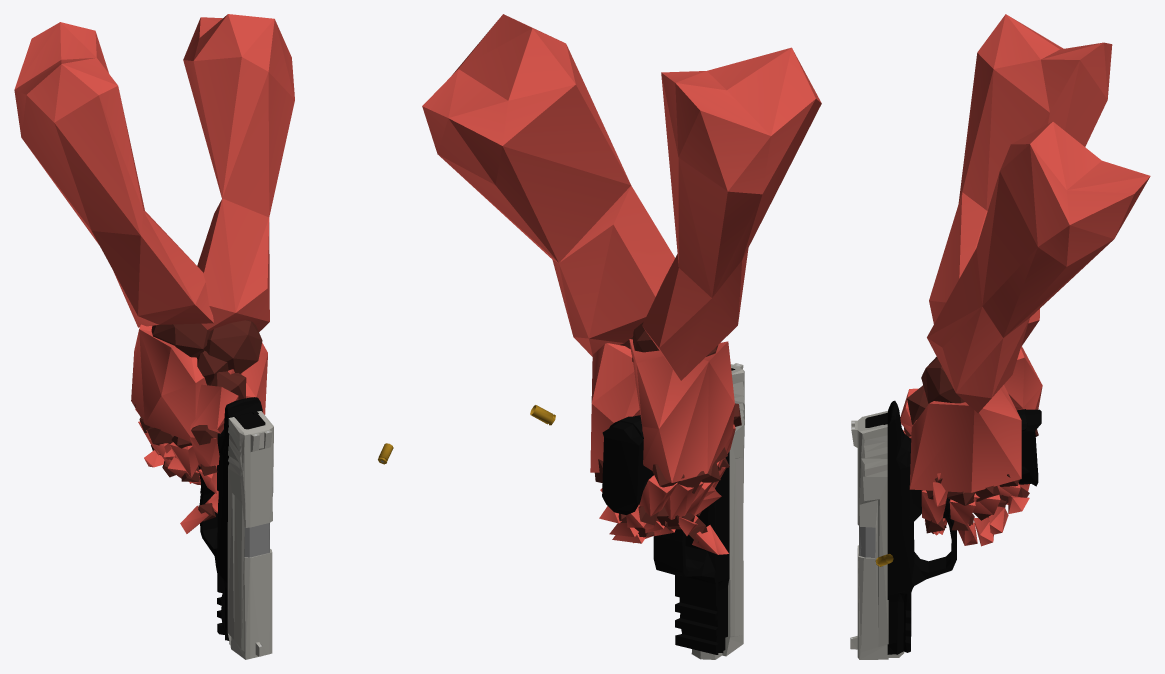
Rendered from M&P9shoot3LowP_000208.obj.
The picture shows the model from 3 angles, left to right: view 1: azimuth 30°, elevation 25°; view 2: azimuth 150°, elevation 25°; view 3: azimuth 270°, elevation 25°; orthographic projection. The views are drawn at different scales.
Parts seen in each view (by area): view 1: Beta_Surface.001_Beta_Surface.002, slide_平面.002, Beta_Joints.001_Beta_Joints.002, triger_平面.001; view 2: Beta_Surface.001_Beta_Surface.002, triger_平面.001, slide_平面.002, Beta_Joints.001_Beta_Joints.002; view 3: Beta_Surface.001_Beta_Surface.002, triger_平面.001, slide_平面.002, Beta_Joints.001_Beta_Joints.002.
Part boxes in pixels (x1=…): Beta_Surface.001_Beta_Surface.002: x1=14, y1=14, x2=294, y2=533; slide_平面.002: x1=227, y1=411, x2=273, y2=659; Beta_Joints.001_Beta_Joints.002: x1=134, y1=320, x2=262, y2=521; triger_平面.001: x1=198, y1=397, x2=269, y2=640; Beta_Surface.001_Beta_Surface.002: x1=422, y1=14, x2=821, y2=554; triger_平面.001: x1=602, y1=415, x2=729, y2=654; slide_平面.002: x1=691, y1=363, x2=744, y2=659; Beta_Joints.001_Beta_Joints.002: x1=594, y1=322, x2=741, y2=542; Beta_Surface.001_Beta_Surface.002: x1=900, y1=14, x2=1150, y2=546; triger_平面.001: x1=859, y1=400, x2=1041, y2=654; slide_平面.002: x1=850, y1=411, x2=904, y2=659; Beta_Joints.001_Beta_Joints.002: x1=904, y1=356, x2=1038, y2=533.
Size of the model in its own units: 44.09 by 80.1 by 37.71.
